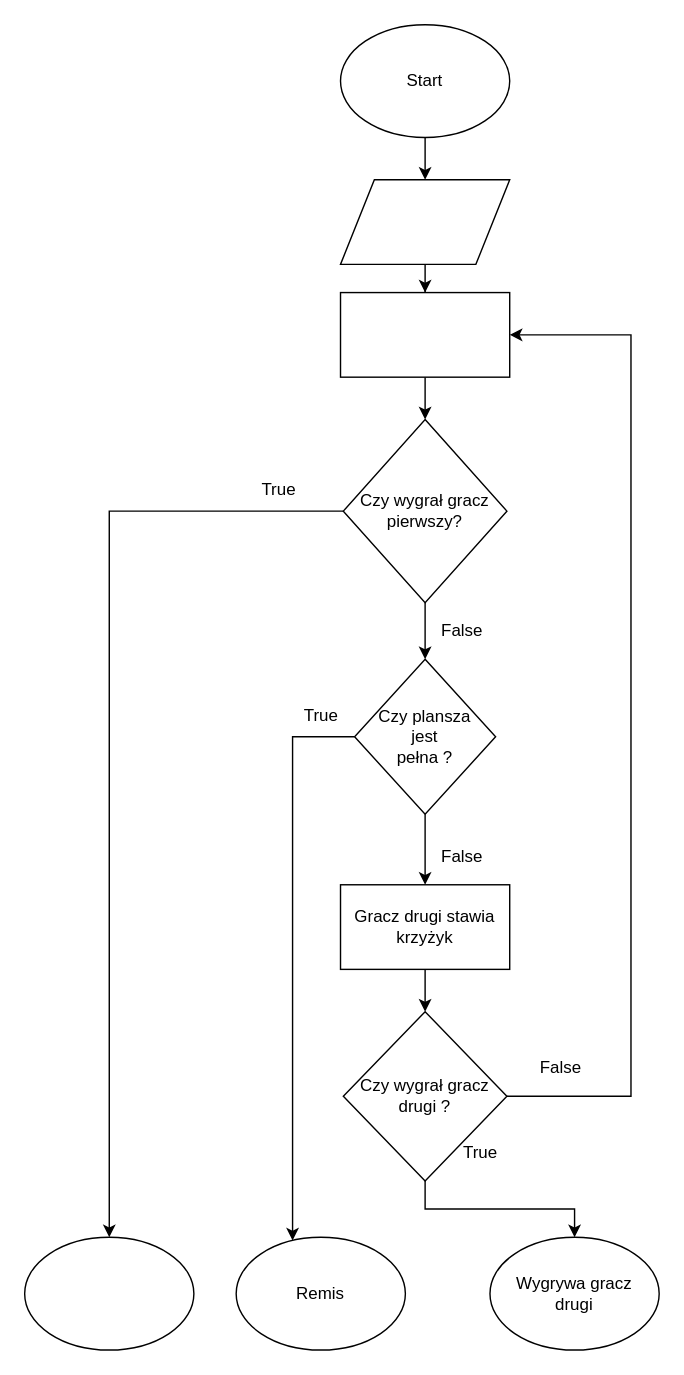
Some shapes in this 684 by 1375 pixel diagram are drawn without their labels. Here are the shapes that lost their labels. From the top down, the centre of each, then its label:
At [424,221]: "Narysuj plansze".
At [424,334]: "Gracz pierwszy stawia kółko".
At [108,1293]: "Wygrywa gracz pierwszy".
